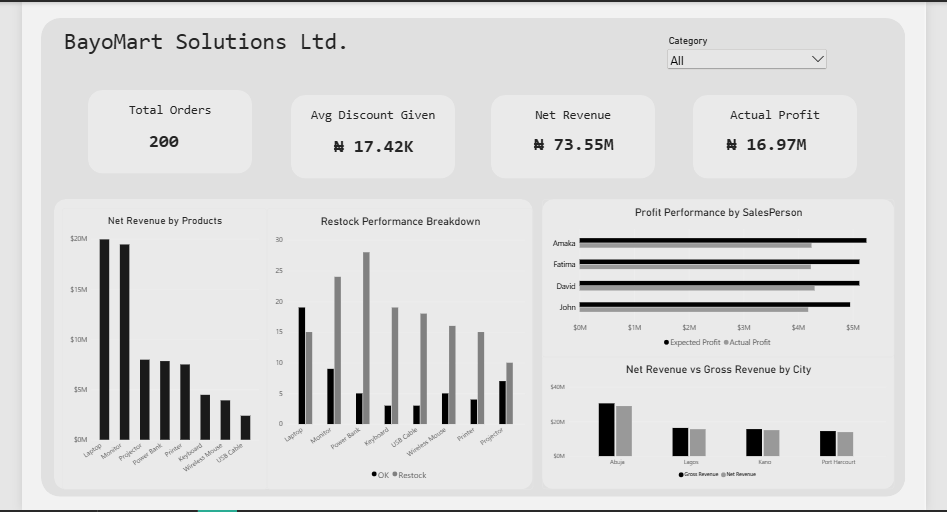

What the dashboard file says about the page in this screenshot:
{"tool":"powerbi","page":{"name":"Dashboard","canvas":[1920,1080],"ordinal":1},"visuals":[{"type":"shape","box":[0,0,1919.1,1080],"z":0},{"type":"shape","box":[39.5,34.9,1837.4,1017.8],"z":1000},{"type":"shape","box":[140.6,187.6,348.9,177.5],"z":2000},{"type":"shape","box":[1426.8,198,348.9,177.5],"z":3000},{"type":"shape","box":[997.4,198,348.9,177.5],"z":4000},{"type":"shape","box":[572.1,198,348.9,177.5],"z":5000},{"type":"shape","box":[68.4,418.9,1017.8,617.3],"z":6000},{"type":"shape","box":[1104.7,418.9,749.4,617.3],"z":7000},{"type":"textbox","box":[68.3,56.2,648.4,76.3],"z":8000},{"type":"textbox","box":[140.6,212.4,348.9,43.4],"z":9000},{"type":"textbox","box":[1426.8,222.7,348.9,43.4],"z":10000},{"type":"textbox","box":[997.4,222.7,348.9,43.4],"z":11000},{"type":"textbox","box":[572.1,222.7,348.9,43.4],"z":12000},{"type":"cardVisual","fields":{"Data":["CountNonNull(Sales.OrderID)"]},"box":[161.3,255.8,280.8,80.5],"z":13000},{"type":"cardVisual","fields":{"Data":["Avg(Sales.Discount Given)"]},"box":[607.2,266.1,280.8,82.6],"z":14000},{"type":"cardVisual","fields":{"Data":["Sum(Sales.Net Revenue)"]},"box":[1032.5,262,280.8,80.5],"z":15000},{"type":"cardVisual","fields":{"Data":["Sum(Sales.Actual Profit)"]},"box":[1482.6,262,278.7,80.5],"z":16000},{"type":"columnChart","title":"Net Revenue by Products","fields":{"Category":["Sales.Product"],"Y":["Sum(Sales.Net Revenue)"]},"box":[84.9,437.4,435.6,598.7],"z":17000},{"type":"clusteredColumnChart","title":"Restock Performance Breakdown","fields":{"Category":["Sales.Product"],"Series":["Sales.Restock Segment"],"Y":["CountNonNull(Sales.Restock Segment)"]},"box":[520.5,437.4,565.7,598.7],"z":18000},{"type":"clusteredBarChart","title":"Profit Performance by SalesPerson","fields":{"Category":["Sales.Salesperson"],"Y":["Sum(Sales.Expected Profit)","Sum(Sales.Actual Profit)"]},"box":[1104.7,418.9,749.4,336.5],"z":19000},{"type":"clusteredColumnChart","title":"Net Revenue vs Gross Revenue by City","fields":{"Category":["Sales.City"],"Y":["Sum(Sales.Gross Revenue)","Sum(Sales.Net Revenue)"]},"box":[1104.5,753.5,749.4,282.8],"z":20000},{"type":"slicer","fields":{"Values":["Sales.Category"]},"box":[1366.9,70,348.9,92.9],"z":20001}]}

Visuals, with their boxes on the page's 1920x1080 design canvas (x1, y1, x2, y2). These are canvas units, not pixel positions in the 947x512 screenshot, which may show the page scaled, cropped or inside an application window:
shape: bbox=(0, 0, 1919, 1080)
shape: bbox=(40, 35, 1877, 1053)
shape: bbox=(141, 188, 490, 365)
shape: bbox=(1427, 198, 1776, 376)
shape: bbox=(997, 198, 1346, 376)
shape: bbox=(572, 198, 921, 376)
shape: bbox=(68, 419, 1086, 1036)
shape: bbox=(1105, 419, 1854, 1036)
textbox: bbox=(68, 56, 717, 132)
textbox: bbox=(141, 212, 490, 256)
textbox: bbox=(1427, 223, 1776, 266)
textbox: bbox=(997, 223, 1346, 266)
textbox: bbox=(572, 223, 921, 266)
cardVisual - CountNonNull(Sales.OrderID): bbox=(161, 256, 442, 336)
cardVisual - Avg(Sales.Discount Given): bbox=(607, 266, 888, 349)
cardVisual - Sum(Sales.Net Revenue): bbox=(1032, 262, 1313, 342)
cardVisual - Sum(Sales.Actual Profit): bbox=(1483, 262, 1761, 342)
"Net Revenue by Products" columnChart: bbox=(85, 437, 520, 1036)
"Restock Performance Breakdown" clusteredColumnChart: bbox=(520, 437, 1086, 1036)
"Profit Performance by SalesPerson" clusteredBarChart: bbox=(1105, 419, 1854, 755)
"Net Revenue vs Gross Revenue by City" clusteredColumnChart: bbox=(1104, 754, 1854, 1036)
slicer - Sales.Category: bbox=(1367, 70, 1716, 163)
